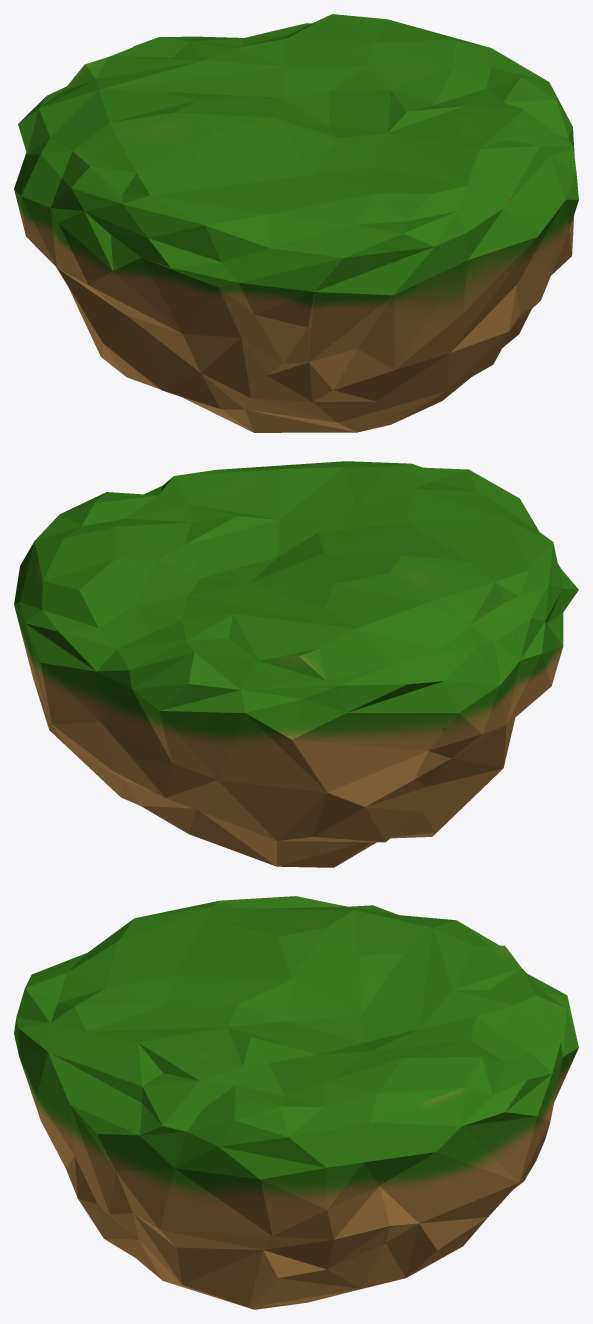
File: Up_Challenge_Finish.fbx
3 renders of one model, top to bottom at view 1: azimuth 30°, elevation 25°; view 2: azimuth 150°, elevation 25°; view 3: azimuth 270°, elevation 25°, orthographic. The views are drawn at different scales.
Visible parts, largest first — view 1: Up Challenge finish; view 2: Up Challenge finish; view 3: Up Challenge finish.
Boxes of the visible parts, x1,y1,x2,y2 form: Up Challenge finish: (14, 14, 578, 432); Up Challenge finish: (14, 461, 578, 867); Up Challenge finish: (14, 896, 578, 1309).
Size of the model in its own units: 8162 by 4872 by 8172.
